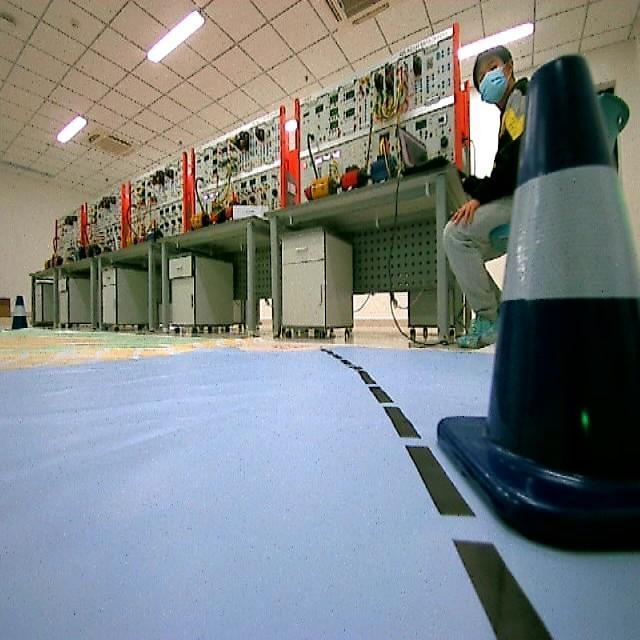obstacle: (493, 46, 640, 544)
